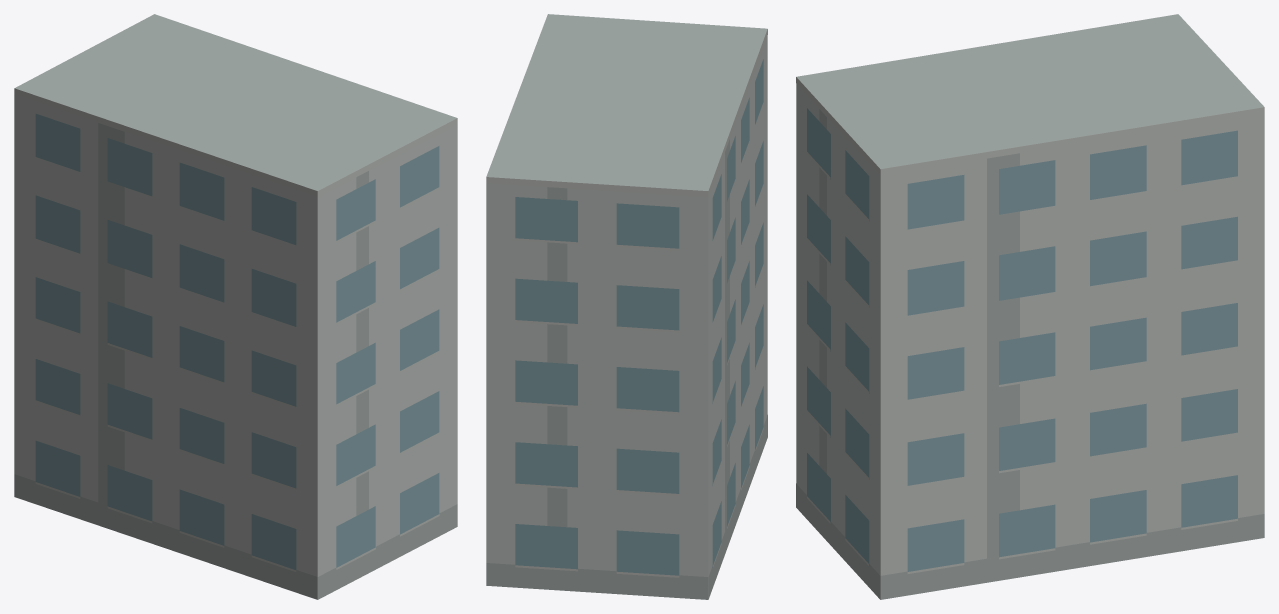
Rendered from survey-upis-32892593.glb.
3 views of the same model, side by side, from view 1: azimuth 30°, elevation 25°; view 2: azimuth 150°, elevation 25°; view 3: azimuth 270°, elevation 25° (orthographic). The views are drawn at different scales.
Parts seen in each view (by area): view 1: survey-upis-32892593.tmp; view 2: survey-upis-32892593.tmp; view 3: survey-upis-32892593.tmp.
Boxes of the visible parts, x1=… form: survey-upis-32892593.tmp: x1=14, y1=14, x2=457, y2=599; survey-upis-32892593.tmp: x1=486, y1=14, x2=767, y2=599; survey-upis-32892593.tmp: x1=796, y1=14, x2=1264, y2=599.
Size of the model in its own units: 12.41 by 16.05 by 15.84.
